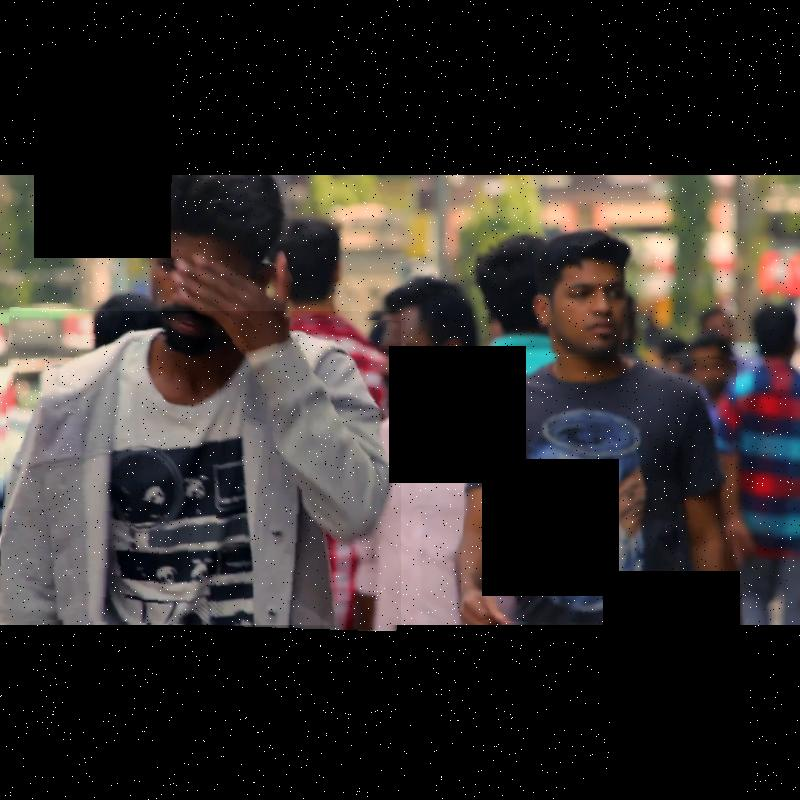Shirt: (0, 312, 401, 630)
Tshirt: (465, 357, 732, 622)
